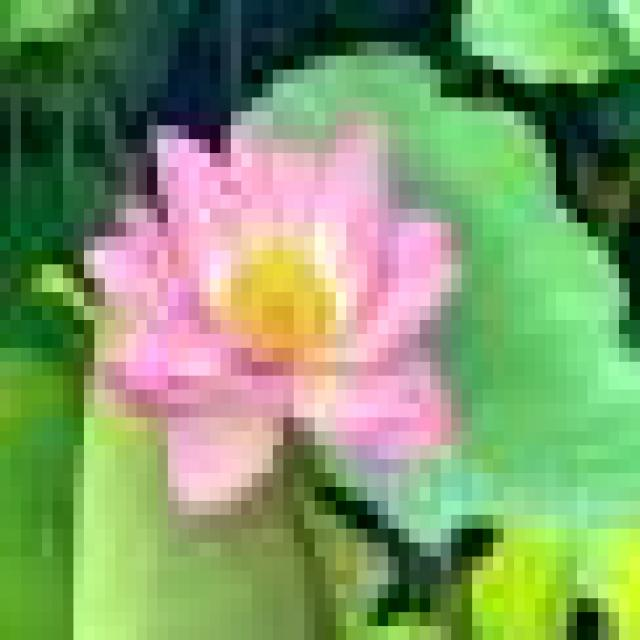lotus: (64, 92, 513, 544)
